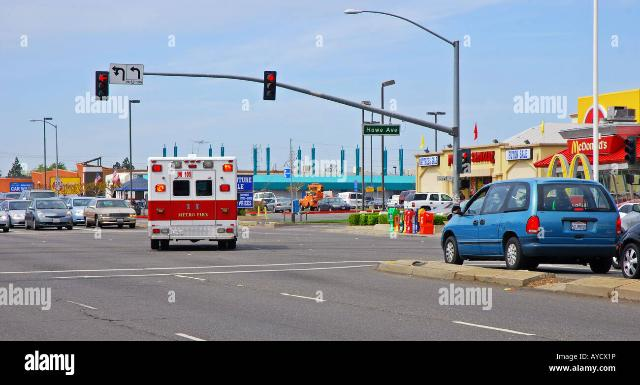ambulance: (148, 149, 239, 250)
